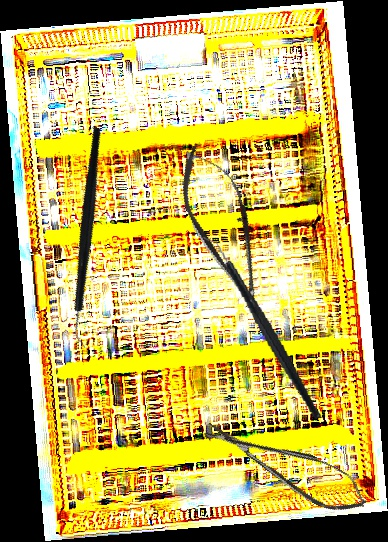Chopper: (4, 125, 177, 350), (197, 220, 323, 434)
Micro Scissor: (165, 135, 288, 334), (199, 405, 374, 525)
